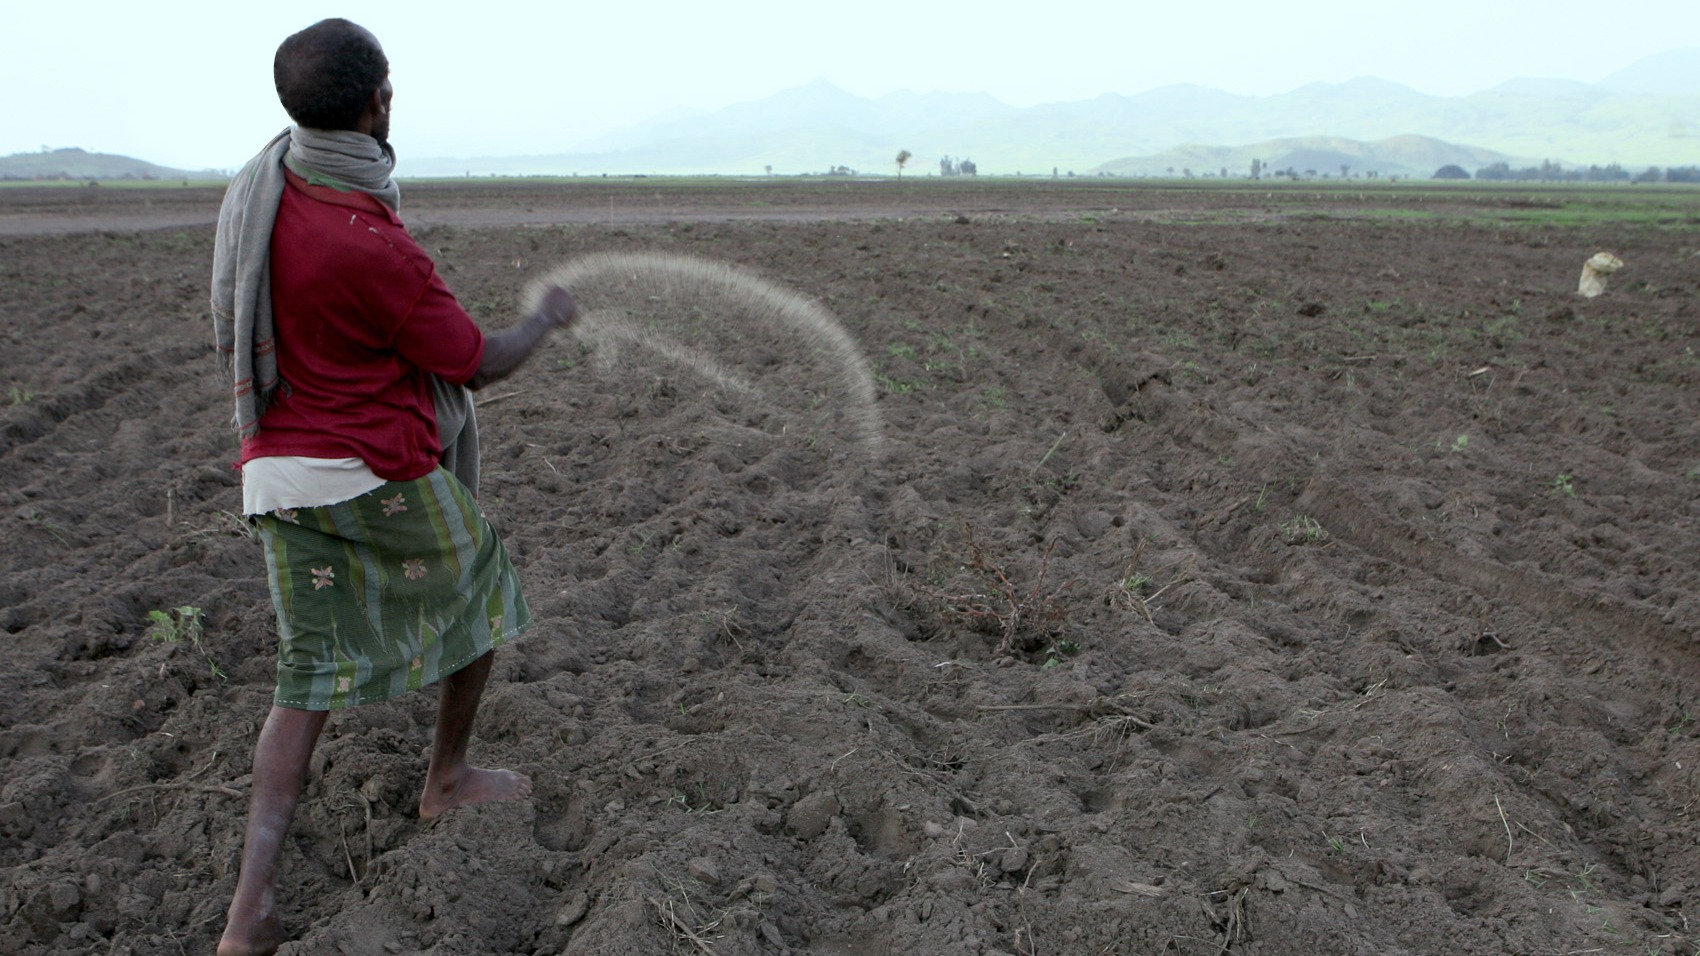human: (158, 20, 704, 935)
